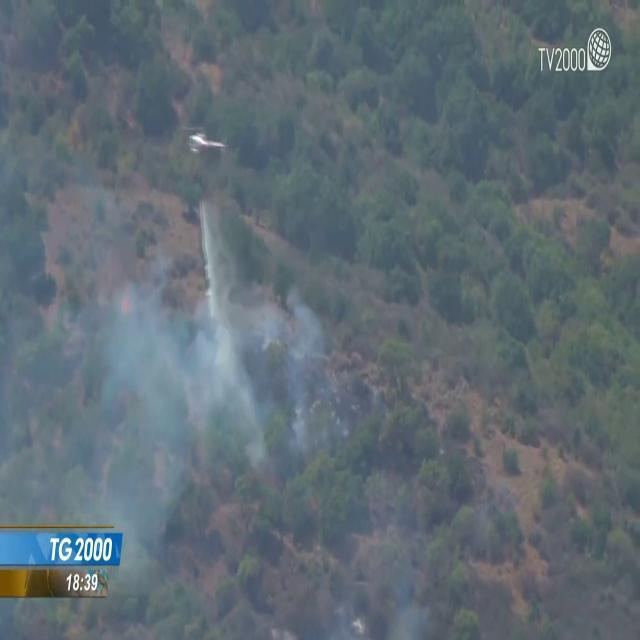Smoke: (74, 205, 326, 607)
